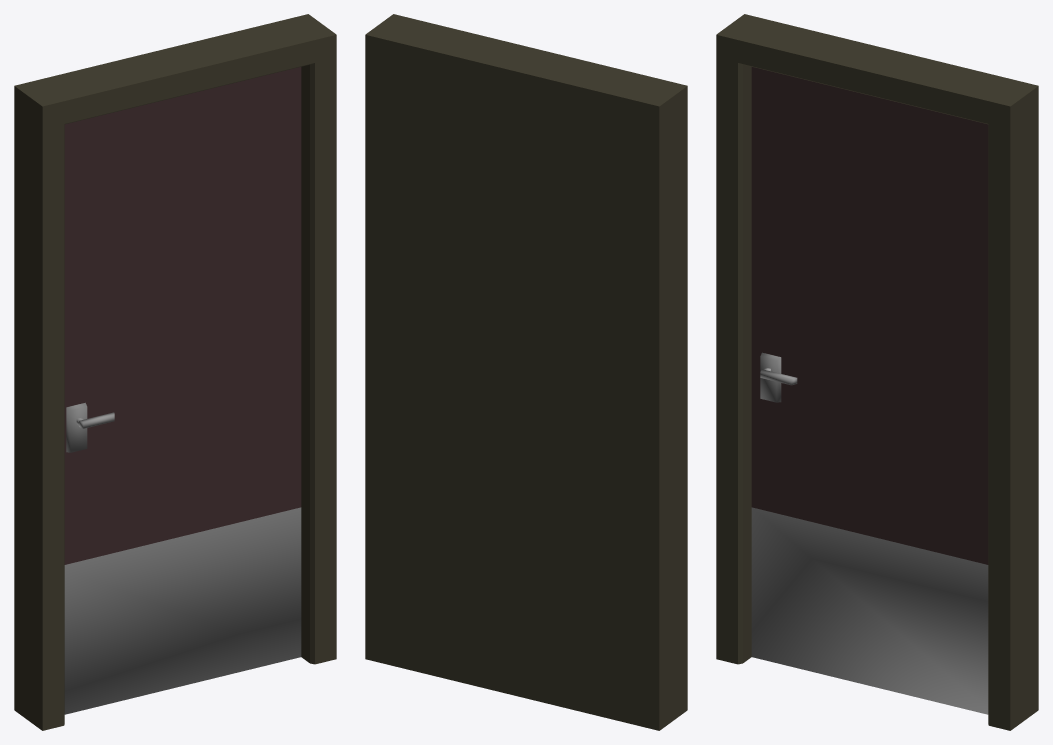
Rendered from SW_PROP_Door01.fbx.
3 views of the same model, side by side, from view 1: azimuth 30°, elevation 25°; view 2: azimuth 150°, elevation 25°; view 3: azimuth 330°, elevation 25° (orthographic).
Parts seen in each view (by area): view 1: SW_PROP_Door01; view 2: SW_PROP_Door01; view 3: SW_PROP_Door01.
Boxes of the visible parts, x1=… form: SW_PROP_Door01: x1=14, y1=14, x2=336, y2=730; SW_PROP_Door01: x1=365, y1=14, x2=687, y2=730; SW_PROP_Door01: x1=716, y1=14, x2=1038, y2=730.
Bounding box in the file's own units: 1.08 × 2.19 × 0.18.
